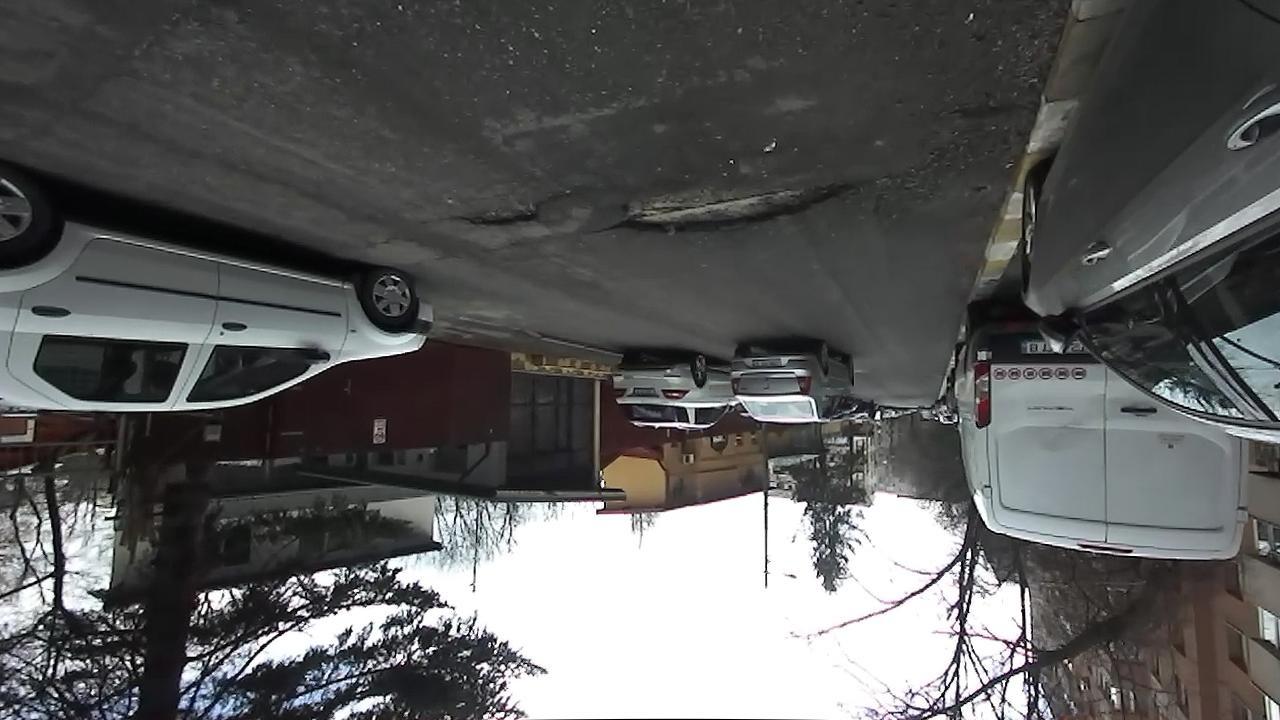pothole: (605, 168, 873, 239), (451, 191, 559, 230)
